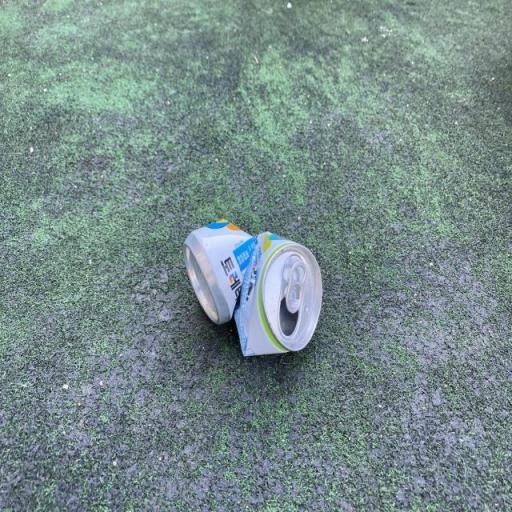metal: (171, 200, 347, 402)
